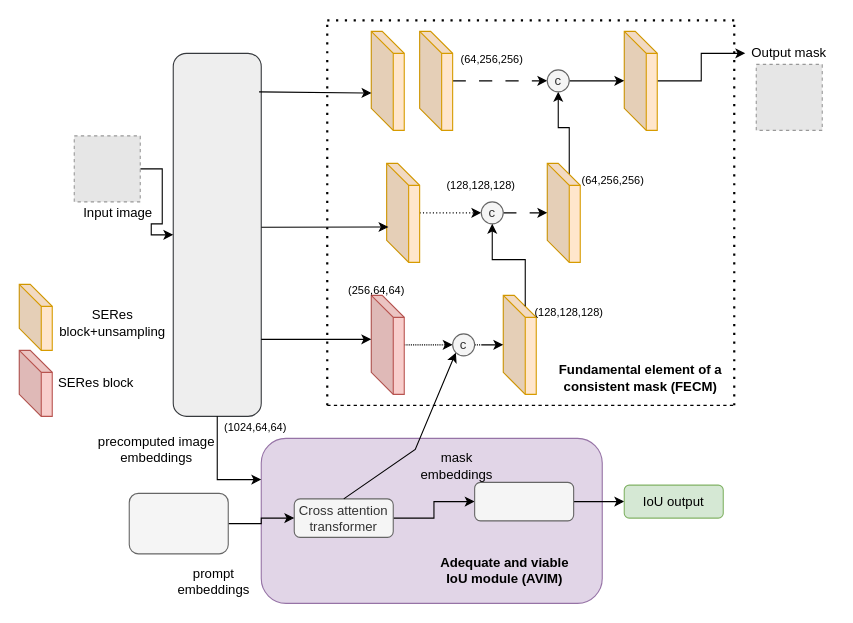
Some shapes in this 853 by 623 pixel diagram are drawn without their labels. Grey dashed boxes stand in for pictures. Each missing label, with the centre of its shape:
IoU prediction head: the point at 524,501
SAM image encoder: the point at 216,234
SAM prompt encoder: the point at 178,523
